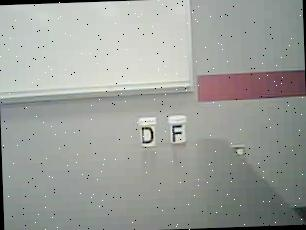Bottle D: (134, 113, 160, 151)
Bottle F: (164, 114, 193, 152)
